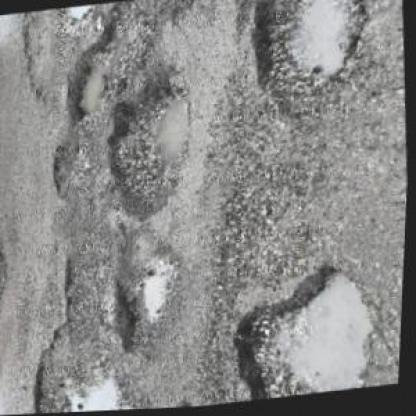pothole: (226, 260, 384, 404), (25, 247, 130, 413), (98, 72, 206, 222), (108, 225, 194, 362), (48, 133, 88, 200)
